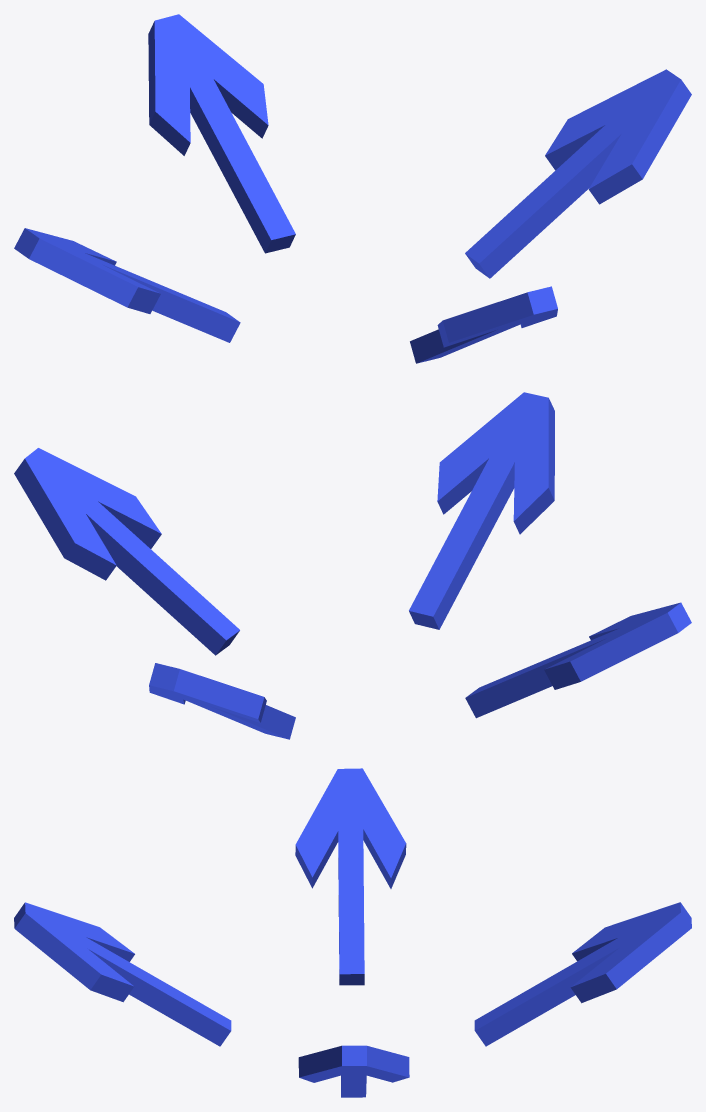
Rendered from walkingArrows.fbx.
3 views of the same model, one above another, from view 1: azimuth 30°, elevation 25°; view 2: azimuth 150°, elevation 25°; view 3: azimuth 270°, elevation 25° (orthographic). The views are drawn at different scales.
Visible parts, largest first — view 1: Cube, Cube.002, Cube.003, Cube.001; view 2: Cube.001, Cube.002, Cube.003, Cube; view 3: Cube.003, Cube, Cube.001, Cube.002.
Boxes of the visible parts, x1,y1,x2,y2 form: Cube: (148,14,295,253); Cube.002: (465,69,691,278); Cube.003: (14,228,240,342); Cube.001: (410,286,557,363); Cube.001: (409,392,554,629); Cube.002: (14,448,239,655); Cube.003: (465,602,691,718); Cube: (149,663,295,739); Cube.003: (295,768,406,985); Cube: (474,902,691,1046); Cube.001: (14,902,231,1046); Cube.002: (298,1045,409,1097).
Size of the model in its own units: 211 by 46.17 by 211.
